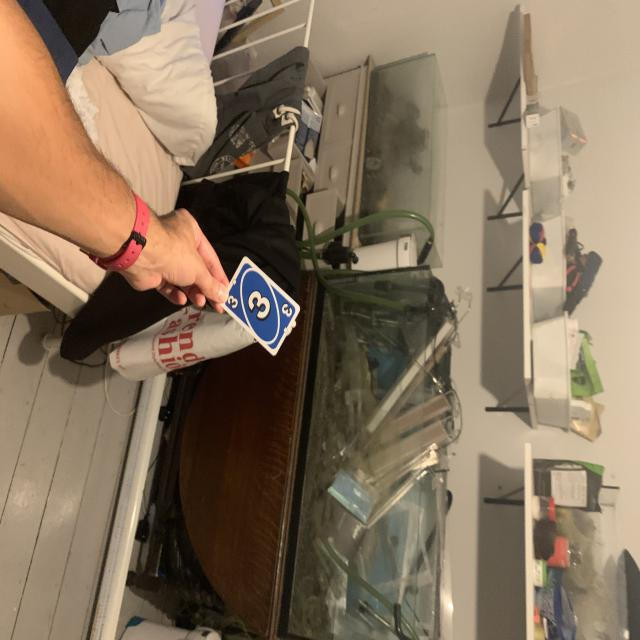lblue-3: (225, 292, 242, 312)
